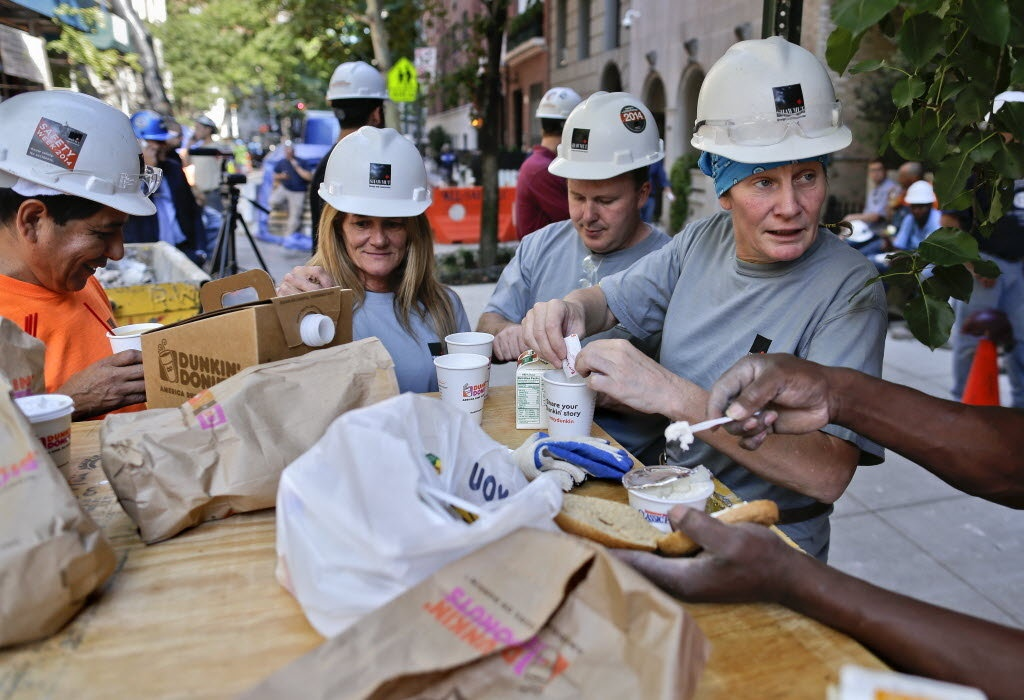blue: (125, 108, 167, 163)
none: (895, 160, 925, 189), (865, 158, 888, 184)
white: (682, 29, 847, 259), (1, 84, 142, 301), (311, 124, 438, 281), (551, 92, 673, 255), (326, 56, 388, 131), (531, 83, 582, 146), (903, 177, 937, 222), (190, 114, 217, 141)
